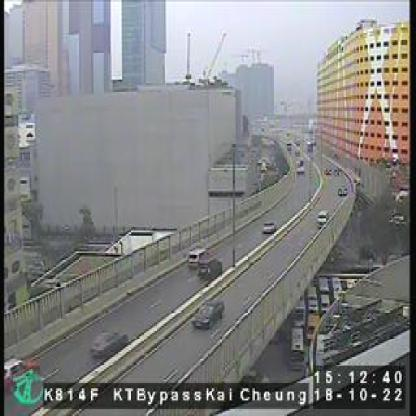Car: (90, 328, 131, 362), (191, 296, 225, 332), (5, 354, 39, 389), (197, 254, 223, 280), (188, 248, 214, 270), (317, 208, 332, 227), (263, 221, 277, 237), (339, 183, 350, 196)
